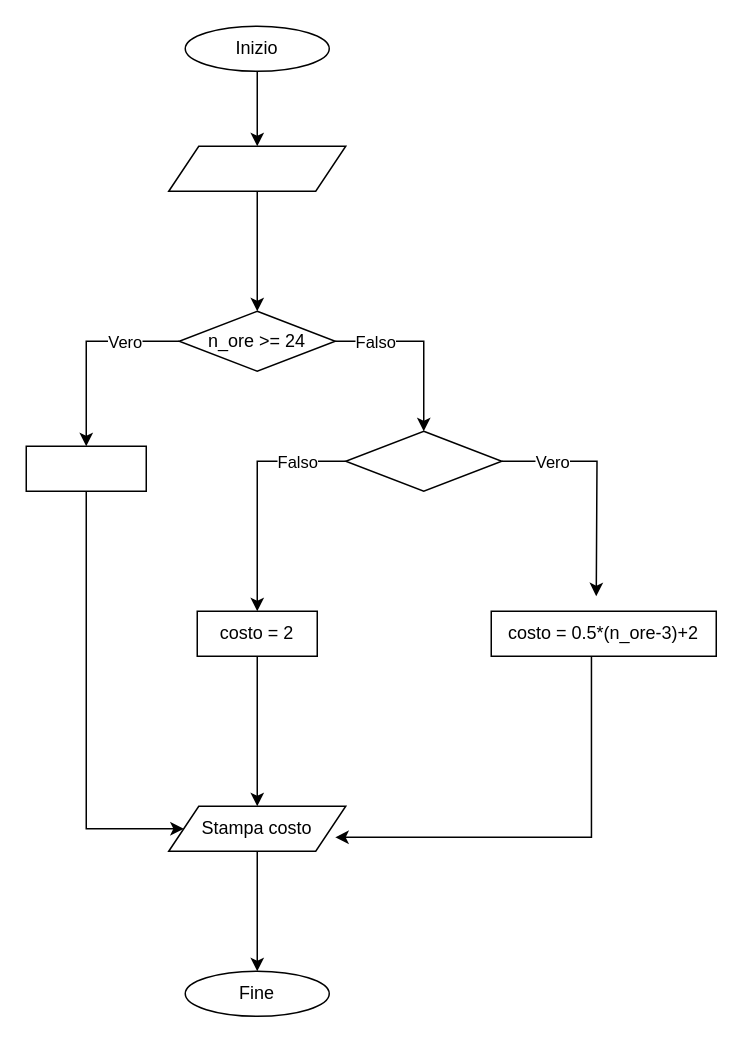
This 743x1043 diagram has some shape labels left out. The centre of each missing label's shape, as x and y in pixels:
"costo = 10" belongs at (85,468).
"Leggi n_ore" belongs at (256,168).
"n_ore >= 3" belongs at (423,460).
